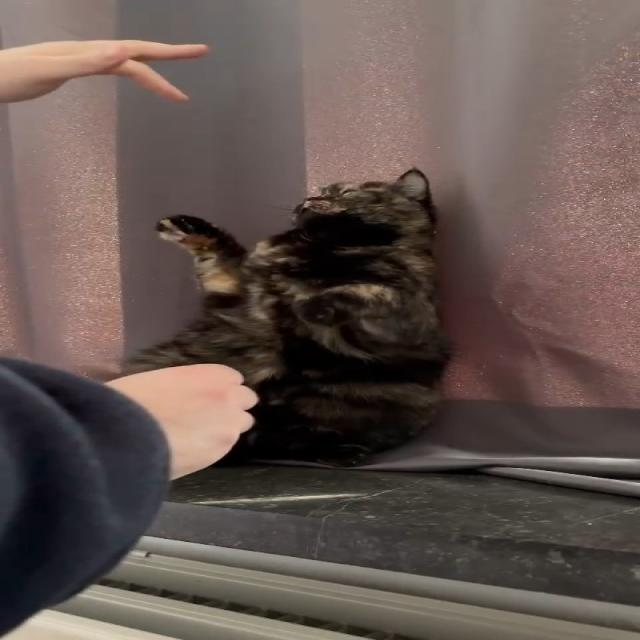authorized: (113, 166, 455, 468)
